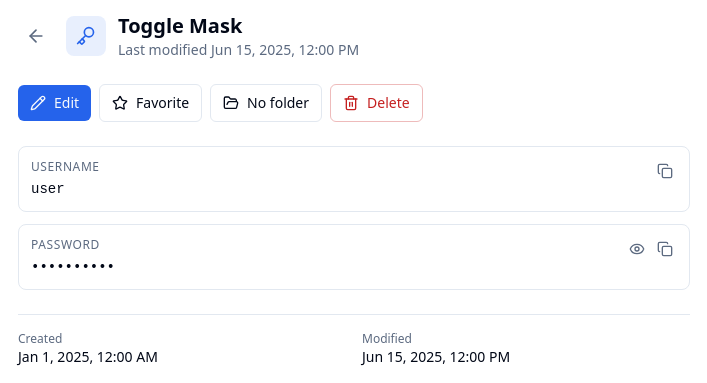
Test: VaultItemDetail › Field masking › clicking reveal again hides the value
Click the button named "Reveal value" at x=637, y=249, box [625, 237, 649, 261]
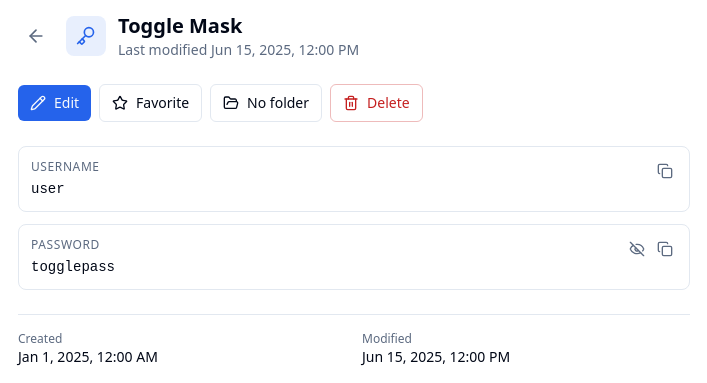
Expected: the text "togglepass" is shown, [31, 259, 115, 275]
Click the button named "Hide value" at x=637, y=249, box [625, 237, 649, 261]
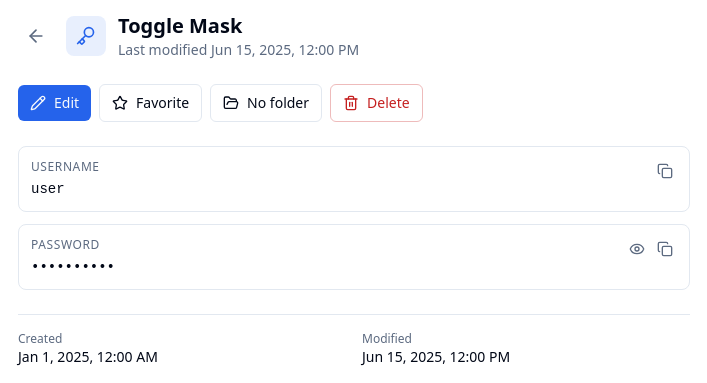
Expected: the text "togglepass" is gone
